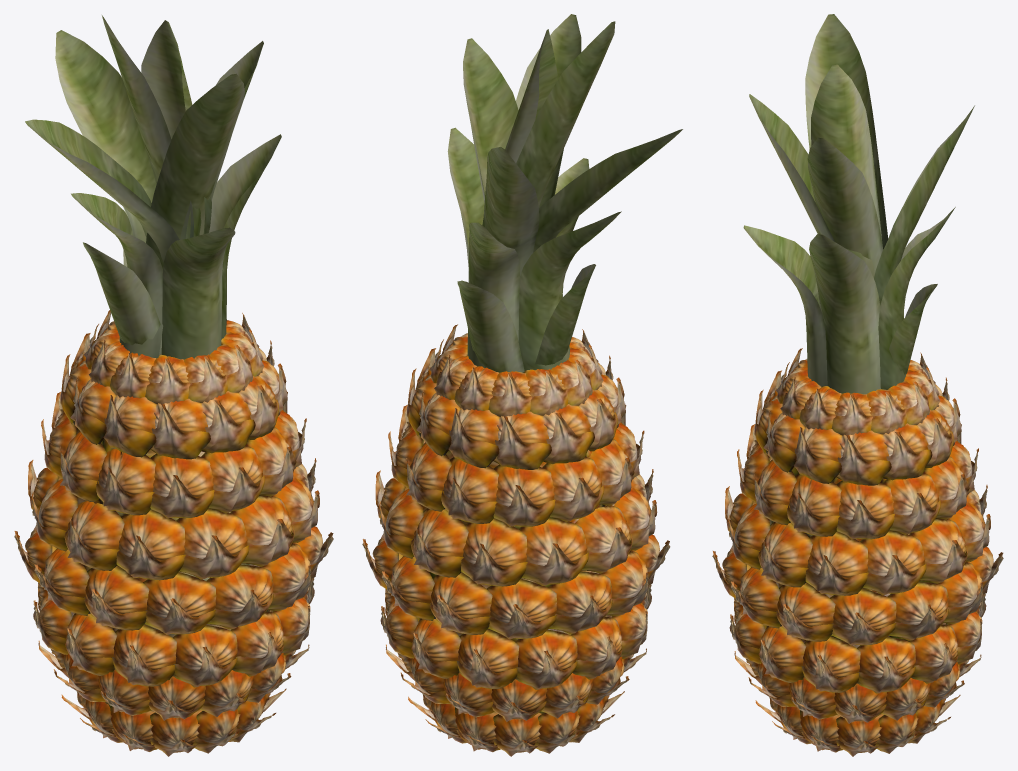
The model's file is bridge-pineapple.glb.
The picture shows the model from 3 angles, left to right: view 1: azimuth 30°, elevation 25°; view 2: azimuth 150°, elevation 25°; view 3: azimuth 270°, elevation 25°; orthographic projection. The views are drawn at different scales.
Parts seen in each view (by area): view 1: polySurface2 (×51), pPlane6, pPlane7, pPlane3, pPlane9, pPlane5, pPlane11, pPlane13, pPlane2, pPlane12, pPlane8, pSphere2; view 2: polySurface2 (×51), pPlane12, pPlane5, pPlane7, pPlane8, pPlane9, pPlane10, pPlane4, pPlane2, pPlane13, pPlane11, pPlane6 (+2 smaller); view 3: polySurface2 (×51), pPlane2, pPlane8, pPlane13, pPlane12, pPlane3, pPlane7, pPlane4, pPlane6, pPlane10.
Part boxes in pixels (x1=…): polySurface2 (×51): x1=14, y1=324, x2=333, y2=756; pPlane6: x1=146, y1=73, x2=244, y2=269; pPlane7: x1=55, y1=30, x2=156, y2=242; pPlane3: x1=161, y1=227, x2=235, y2=359; pPlane9: x1=25, y1=119, x2=179, y2=262; pPlane5: x1=71, y1=193, x2=163, y2=358; pPlane11: x1=83, y1=242, x2=161, y2=354; pPlane13: x1=141, y1=20, x2=211, y2=233; pPlane2: x1=209, y1=134, x2=281, y2=338; pPlane12: x1=102, y1=15, x2=193, y2=239; pPlane8: x1=185, y1=41, x2=263, y2=238; pSphere2: x1=71, y1=428, x2=272, y2=711; polySurface2 (×51): x1=362, y1=339, x2=670, y2=756; pPlane12: x1=516, y1=21, x2=615, y2=207; pPlane5: x1=518, y1=211, x2=621, y2=370; pPlane7: x1=482, y1=147, x2=539, y2=275; pPlane8: x1=463, y1=38, x2=518, y2=202; pPlane9: x1=533, y1=129, x2=682, y2=252; pPlane10: x1=457, y1=280, x2=524, y2=372; pPlane4: x1=467, y1=222, x2=519, y2=367; pPlane2: x1=447, y1=127, x2=484, y2=344; pPlane13: x1=505, y1=29, x2=557, y2=162; pPlane11: x1=535, y1=264, x2=595, y2=365; pPlane6: x1=516, y1=14, x2=581, y2=206; polySurface2 (×51): x1=712, y1=362, x2=1003, y2=756; pPlane2: x1=809, y1=234, x2=880, y2=394; pPlane8: x1=807, y1=137, x2=883, y2=273; pPlane13: x1=811, y1=64, x2=881, y2=278; pPlane12: x1=805, y1=14, x2=888, y2=249; pPlane3: x1=743, y1=225, x2=827, y2=386; pPlane7: x1=874, y1=105, x2=974, y2=305; pPlane4: x1=878, y1=207, x2=955, y2=389; pPlane6: x1=749, y1=94, x2=834, y2=241; pPlane10: x1=889, y1=284, x2=937, y2=374.
Size of the model in its own units: 0.1464 by 0.35 by 0.1358.
3 materials, 3 textured.
